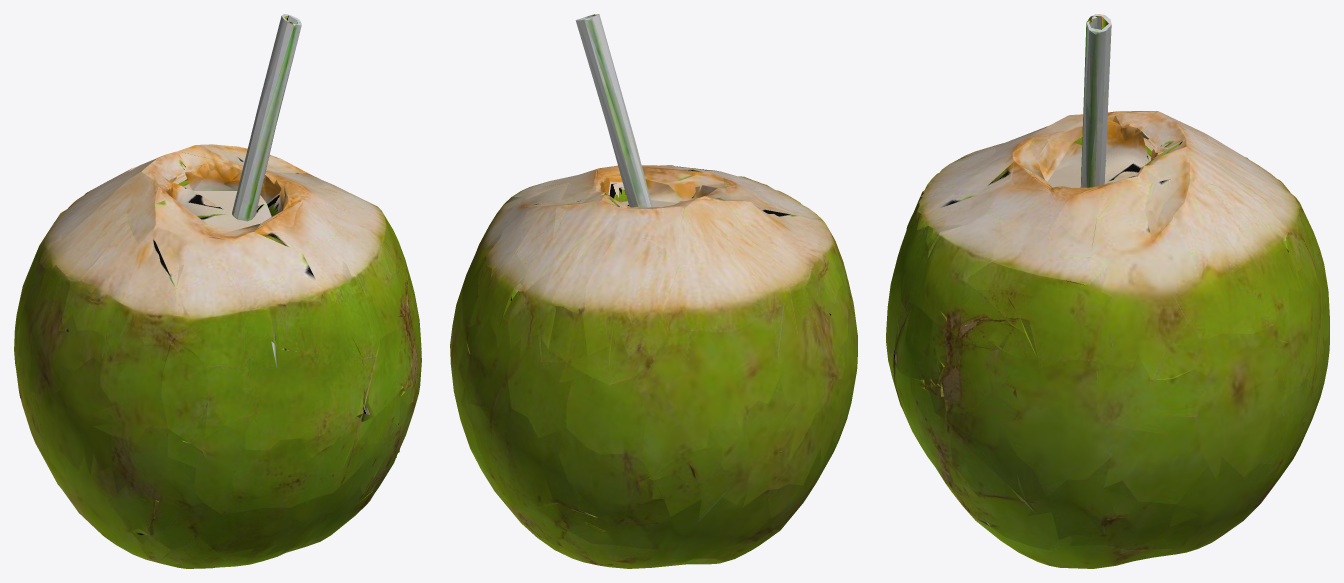
The model's file is w3coconut.glb.
3 renders of one model, left to right at view 1: azimuth 30°, elevation 25°; view 2: azimuth 150°, elevation 25°; view 3: azimuth 270°, elevation 25°, orthographic. The views are drawn at different scales.
Visible parts, largest first — view 1: w3coconut_near, w3coconut_far; view 2: w3coconut_near, w3coconut_far; view 3: w3coconut_near, w3coconut_far.
Boxes of the visible parts, x1,y1,x2,y2 form: w3coconut_near: (14, 14, 421, 568); w3coconut_far: (28, 14, 420, 550); w3coconut_near: (450, 14, 857, 568); w3coconut_far: (462, 14, 851, 567); w3coconut_near: (886, 14, 1329, 568); w3coconut_far: (893, 15, 1315, 555).
Bounding box in the file's own units: 0.19 × 0.2599 × 0.1904.
Materials: 1 (1 with a texture image).
